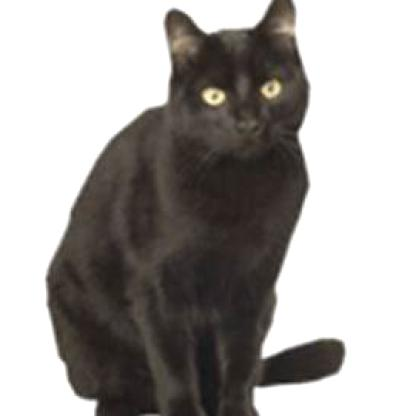cat: (42, 0, 345, 415)
